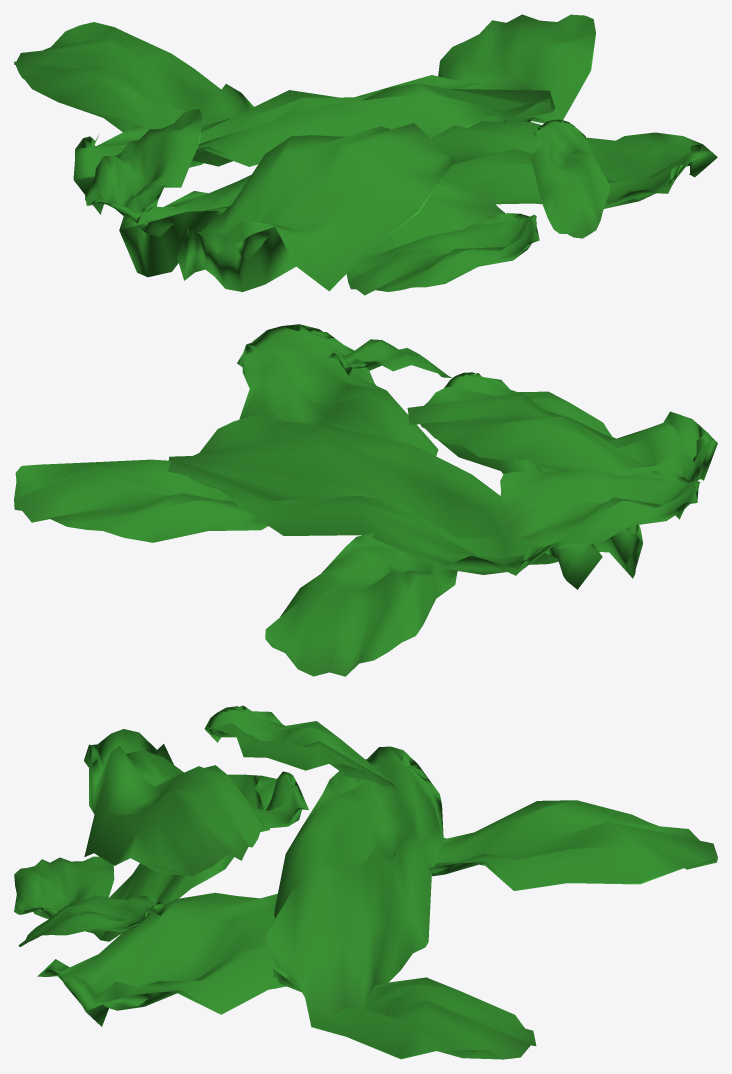
The model's file is LettuceChopped.fbx.
The picture shows the model from 3 angles, top to bottom: view 1: azimuth 30°, elevation 25°; view 2: azimuth 150°, elevation 25°; view 3: azimuth 270°, elevation 25°; orthographic projection. The views are drawn at different scales.
Visible parts, largest first — view 1: Lettuce.003; view 2: Lettuce.003; view 3: Lettuce.003.
Part boxes in pixels (<box>): Lettuce.003: <box>14,14,717,295</box>; Lettuce.003: <box>14,324,717,676</box>; Lettuce.003: <box>14,705,717,1059</box>.
Bounding box in the file's own units: 30.71 × 31.28 × 5.94.
1 material, 1 textured.
